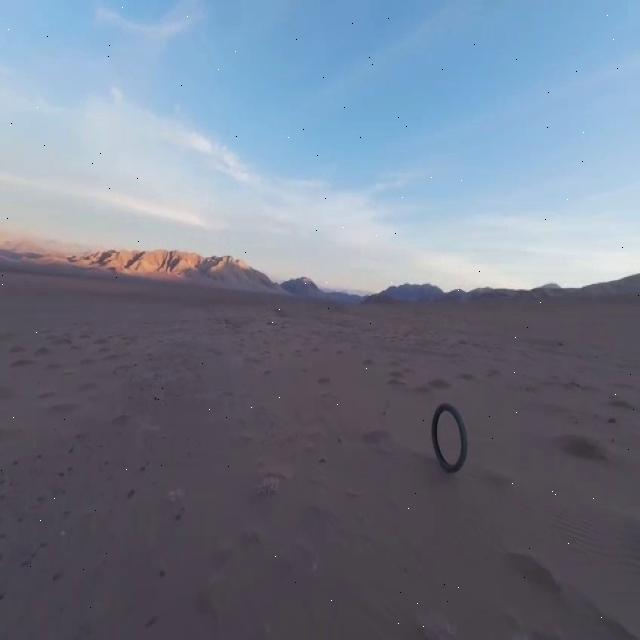Tire: (432, 403, 467, 473)
